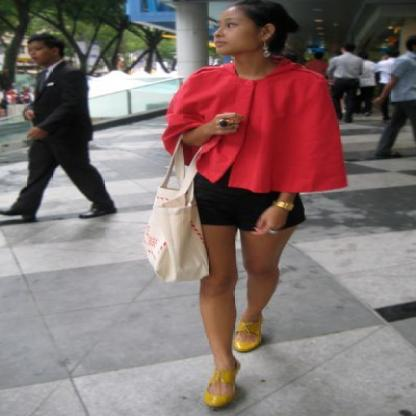bag: (137, 141, 207, 283)
jacket: (162, 60, 346, 192)
shoe: (204, 312, 270, 405)
skirt: (193, 175, 305, 233)
